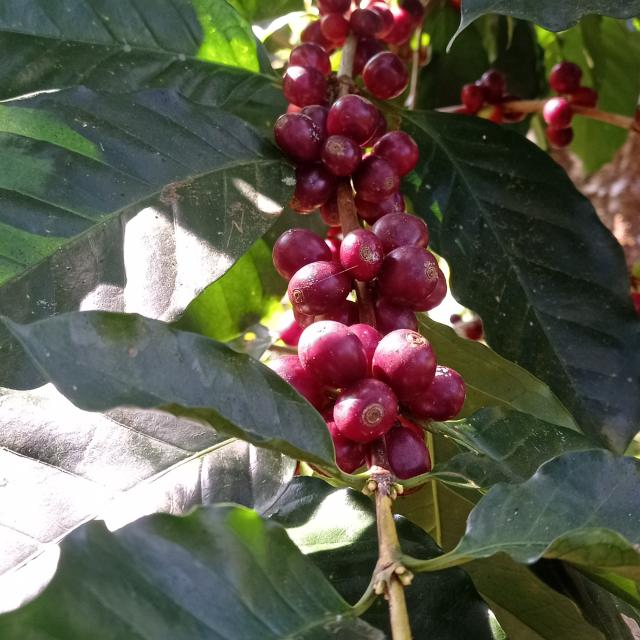red: (298, 321, 368, 389), (373, 329, 438, 402), (334, 379, 398, 443), (378, 245, 439, 307), (288, 261, 352, 316), (408, 366, 467, 422), (267, 355, 325, 411), (273, 229, 332, 281), (327, 94, 379, 145), (385, 424, 432, 480), (274, 112, 325, 162), (372, 212, 430, 254), (289, 163, 336, 214), (352, 154, 401, 202), (362, 50, 410, 99), (340, 229, 384, 282), (327, 422, 368, 474), (373, 130, 419, 175), (283, 65, 328, 107), (349, 324, 382, 378), (374, 297, 418, 337), (355, 191, 406, 225), (321, 135, 362, 176), (411, 268, 448, 312), (289, 41, 331, 74), (301, 18, 336, 53), (315, 299, 359, 326), (383, 6, 414, 44), (353, 37, 384, 74), (550, 61, 583, 93), (476, 69, 507, 103), (349, 7, 384, 37), (544, 96, 574, 129), (362, 110, 388, 147), (321, 11, 349, 45), (369, 0, 394, 38), (301, 104, 329, 137), (320, 190, 341, 227), (462, 83, 485, 112), (569, 86, 599, 107), (547, 125, 575, 147), (293, 308, 315, 330), (399, 0, 425, 18), (318, 0, 351, 13), (503, 107, 528, 122), (504, 93, 521, 101)
